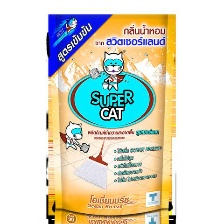cleaning_solution: (40, 9, 180, 224)
